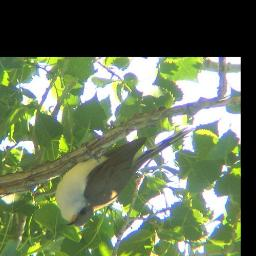Cuckoo: (54, 127, 197, 227)
